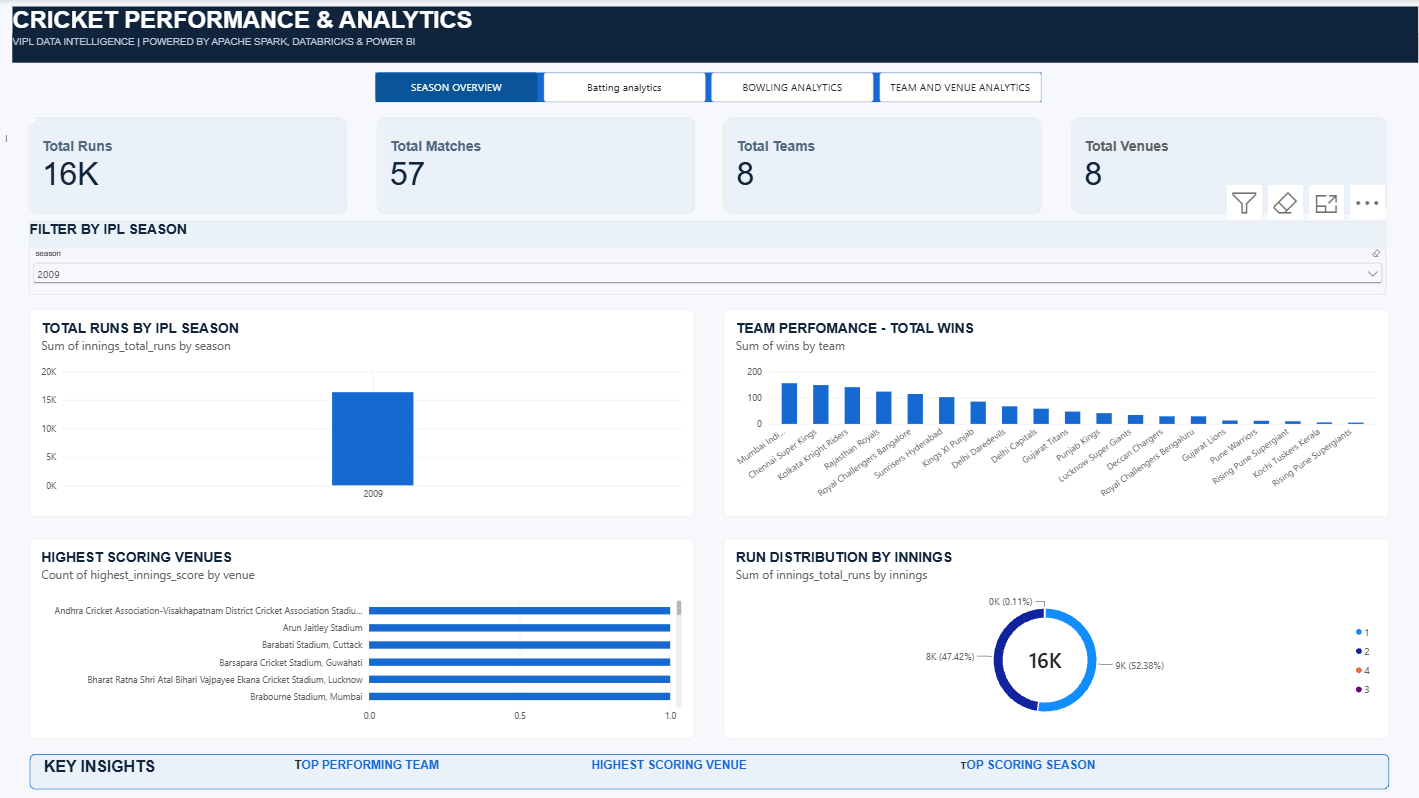

The page's visual inventory and layout, read from the dashboard file:
{"tool":"powerbi","page":{"name":"SEASON OVERVIEW","canvas":[1920,1080],"ordinal":0},"visuals":[{"type":"textbox","box":[19,9.5,1900.3,75.8],"z":0},{"type":"textbox","box":[9,177.5,1240,150],"z":1000},{"type":"textbox","box":[9,393,1240,150],"z":2000},{"type":"textbox","box":[19,47.4,1900.3,37.9],"z":3000},{"type":"cardVisual","fields":{"Data":["gold_team_innings.Total Runs"]},"box":[40,160,430,130],"z":4000},{"type":"cardVisual","fields":{"Data":["gold_team_innings.Total Matches"]},"box":[510,160,430,130],"z":5000},{"type":"cardVisual","fields":{"Data":["gold_team_innings.Total Teams"]},"box":[980,160,430,130],"z":6000},{"type":"cardVisual","fields":{"Data":["gold_team_innings.Total Venues"]},"box":[1450,160,426,130],"z":7000},{"type":"clusteredColumnChart","title":"TOTAL RUNS BY IPL SEASON","fields":{"Category":["gold_team_innings.season"],"Y":["Sum(gold_team_innings.innings_total_runs)"]},"box":[40.6,420,900,280],"z":8000},{"type":"clusteredColumnChart","title":"TEAM PERFOMANCE - TOTAL WINS","fields":{"Category":["gold_team_perfomance.team"],"Y":["Sum(gold_team_perfomance.wins)"]},"box":[980,420,900,280],"z":9000},{"type":"slicer","title":"FILTER BY IPL SEASON","fields":{"Values":["gold_team_innings.season"]},"box":[40.6,300.1,1835,99.4],"z":10000},{"type":"clusteredBarChart","title":"HIGHEST SCORING VENUES","fields":{"Category":["gold_venue_stats.venue"],"Y":["CountNonNull(gold_venue_stats.highest_innings_score)"]},"box":[40,730,900,270],"z":11000},{"type":"donutChart","title":"RUN DISTRIBUTION BY INNINGS","fields":{"Category":["gold_team_innings.innings"],"Y":["Sum(gold_team_innings.innings_total_runs)"]},"box":[980,730,900,270],"z":12000},{"type":"shape","box":[40,1020,1840,50],"z":13000},{"type":"textbox","box":[60,1025,300,40],"z":14000},{"type":"textbox","box":[100,100,300,300],"z":15000},{"type":"textbox","box":[400,1025,350,40],"z":16000},{"type":"textbox","box":[800,1025,400,40],"z":17000},{"type":"textbox","box":[1300,1025,350,40],"z":18000},{"type":"pageNavigator","box":[508,100,900,40],"z":18001}]}

Visuals, with their boxes in screenshot pixels (x1, y1, x2, y2), scaled from the page's 1920x1080 canvas onto the 1419x798 screenshot:
textbox: x1=14 y1=7 x2=1418 y2=63
textbox: x1=7 y1=131 x2=923 y2=242
textbox: x1=7 y1=290 x2=923 y2=401
textbox: x1=14 y1=35 x2=1418 y2=63
cardVisual - gold_team_innings.Total Runs: x1=30 y1=118 x2=347 y2=214
cardVisual - gold_team_innings.Total Matches: x1=377 y1=118 x2=695 y2=214
cardVisual - gold_team_innings.Total Teams: x1=724 y1=118 x2=1042 y2=214
cardVisual - gold_team_innings.Total Venues: x1=1072 y1=118 x2=1386 y2=214
"TOTAL RUNS BY IPL SEASON" clusteredColumnChart: x1=30 y1=310 x2=695 y2=517
"TEAM PERFOMANCE - TOTAL WINS" clusteredColumnChart: x1=724 y1=310 x2=1389 y2=517
"FILTER BY IPL SEASON" slicer: x1=30 y1=222 x2=1386 y2=295
"HIGHEST SCORING VENUES" clusteredBarChart: x1=30 y1=539 x2=695 y2=739
"RUN DISTRIBUTION BY INNINGS" donutChart: x1=724 y1=539 x2=1389 y2=739
shape: x1=30 y1=754 x2=1389 y2=791
textbox: x1=44 y1=757 x2=266 y2=787
textbox: x1=74 y1=74 x2=296 y2=296
textbox: x1=296 y1=757 x2=554 y2=787
textbox: x1=591 y1=757 x2=887 y2=787
textbox: x1=961 y1=757 x2=1219 y2=787
pageNavigator: x1=375 y1=74 x2=1041 y2=103
